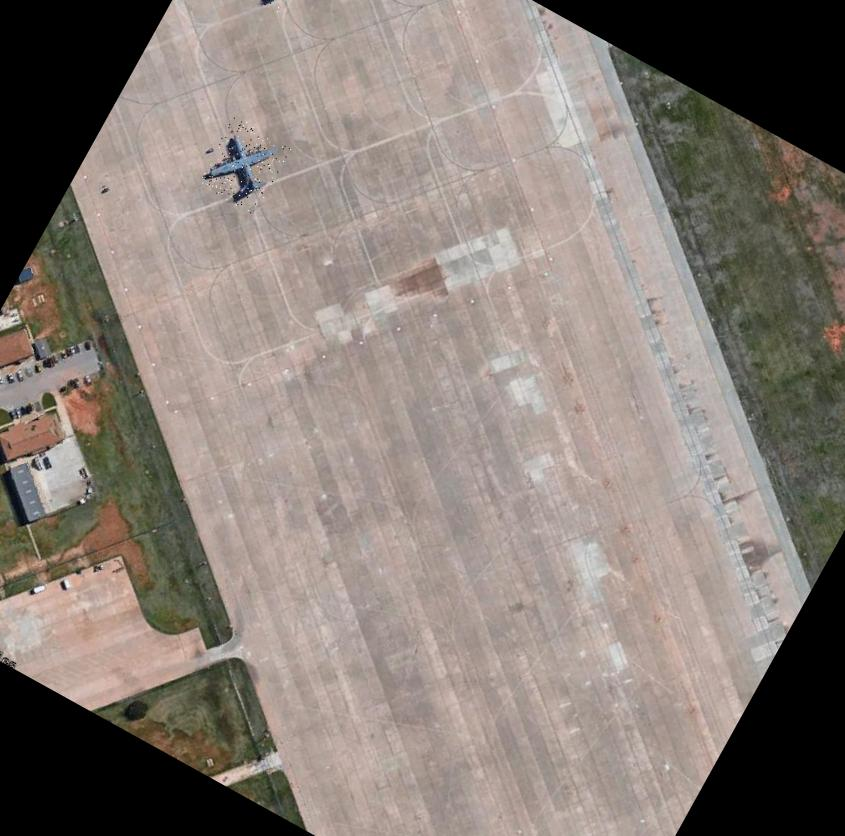A2: (195, 115, 291, 216)
